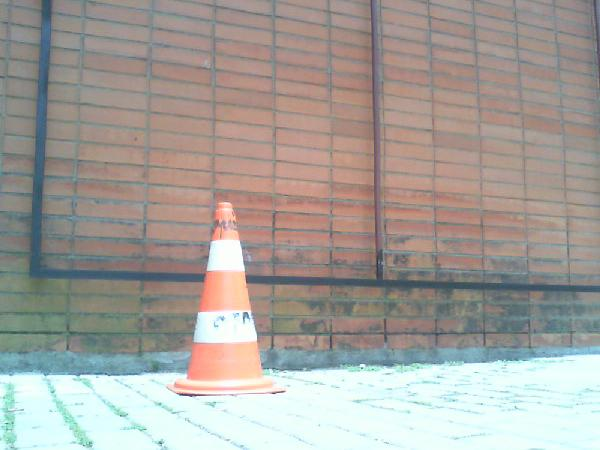0 cone: (165, 202, 286, 395)
